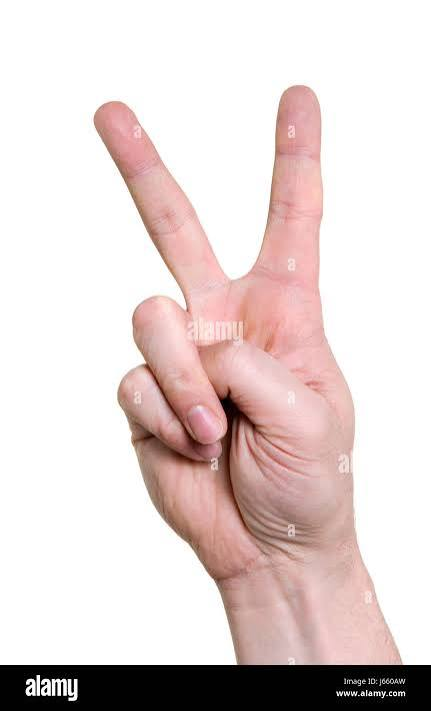peace_sign: (86, 84, 366, 564)
